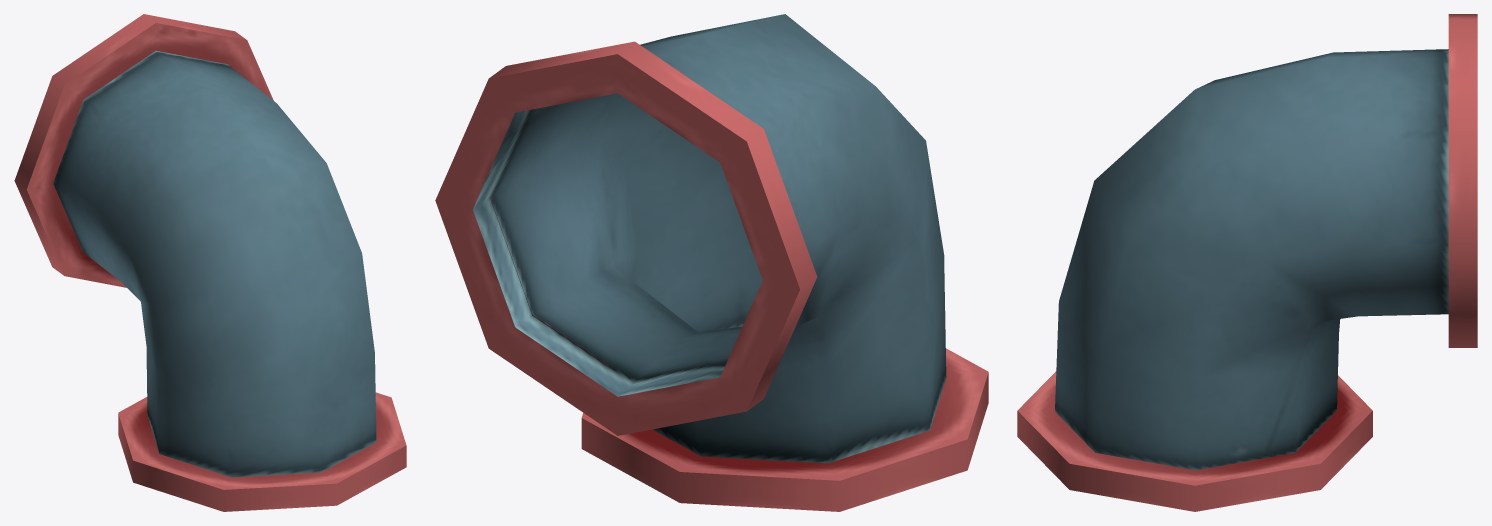
File: Pipe_elbow.fbx
3 views of the same model, side by side, from view 1: azimuth 30°, elevation 25°; view 2: azimuth 150°, elevation 25°; view 3: azimuth 270°, elevation 25° (orthographic). The views are drawn at different scales.
Visible parts, largest first — view 1: Pipe_elbow; view 2: Pipe_elbow; view 3: Pipe_elbow.
Part boxes in pixels (left/top/right/bottom): Pipe_elbow: left=14, top=14, right=406, bottom=511; Pipe_elbow: left=435, top=14, right=988, bottom=511; Pipe_elbow: left=1017, top=14, right=1477, bottom=511.
Bounding box in the file's own units: 126 × 163 × 163.
